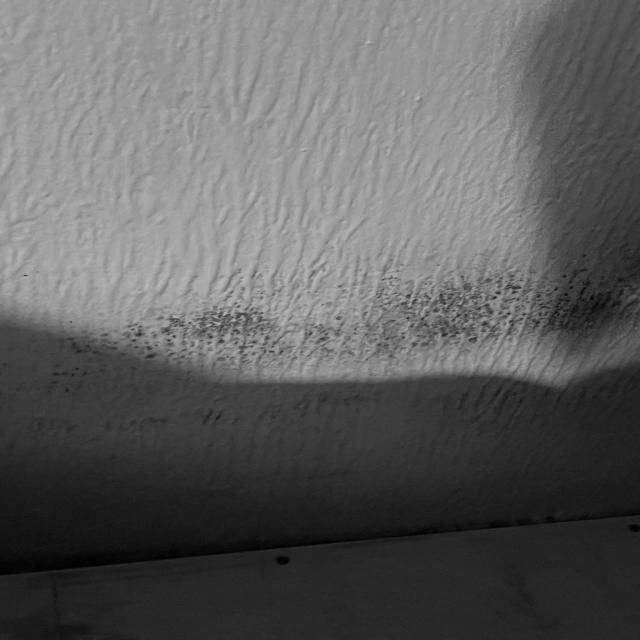paint drips: (0, 0, 640, 314), (2, 336, 624, 451)
stain marks: (0, 209, 640, 571)
